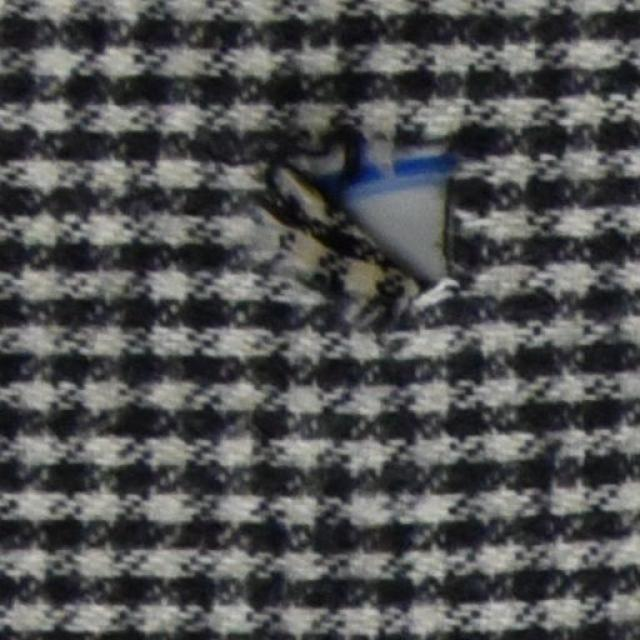Hole: (317, 142, 444, 282)
